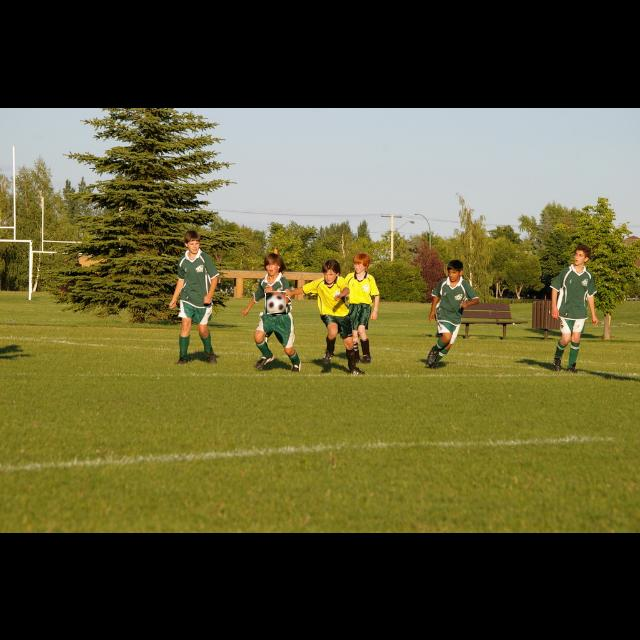Football: (266, 292, 286, 314)
